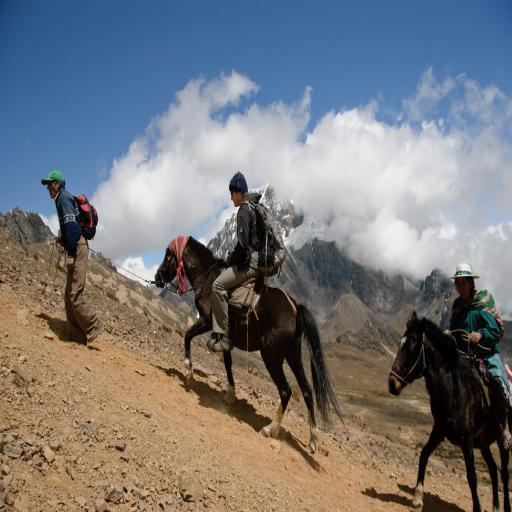horse: (154, 236, 348, 458), (388, 310, 512, 512)
